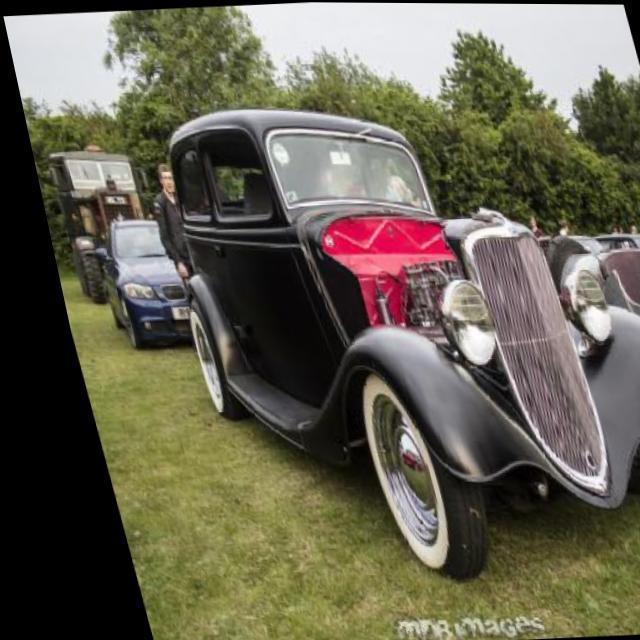license_plate: (158, 305, 180, 320)
